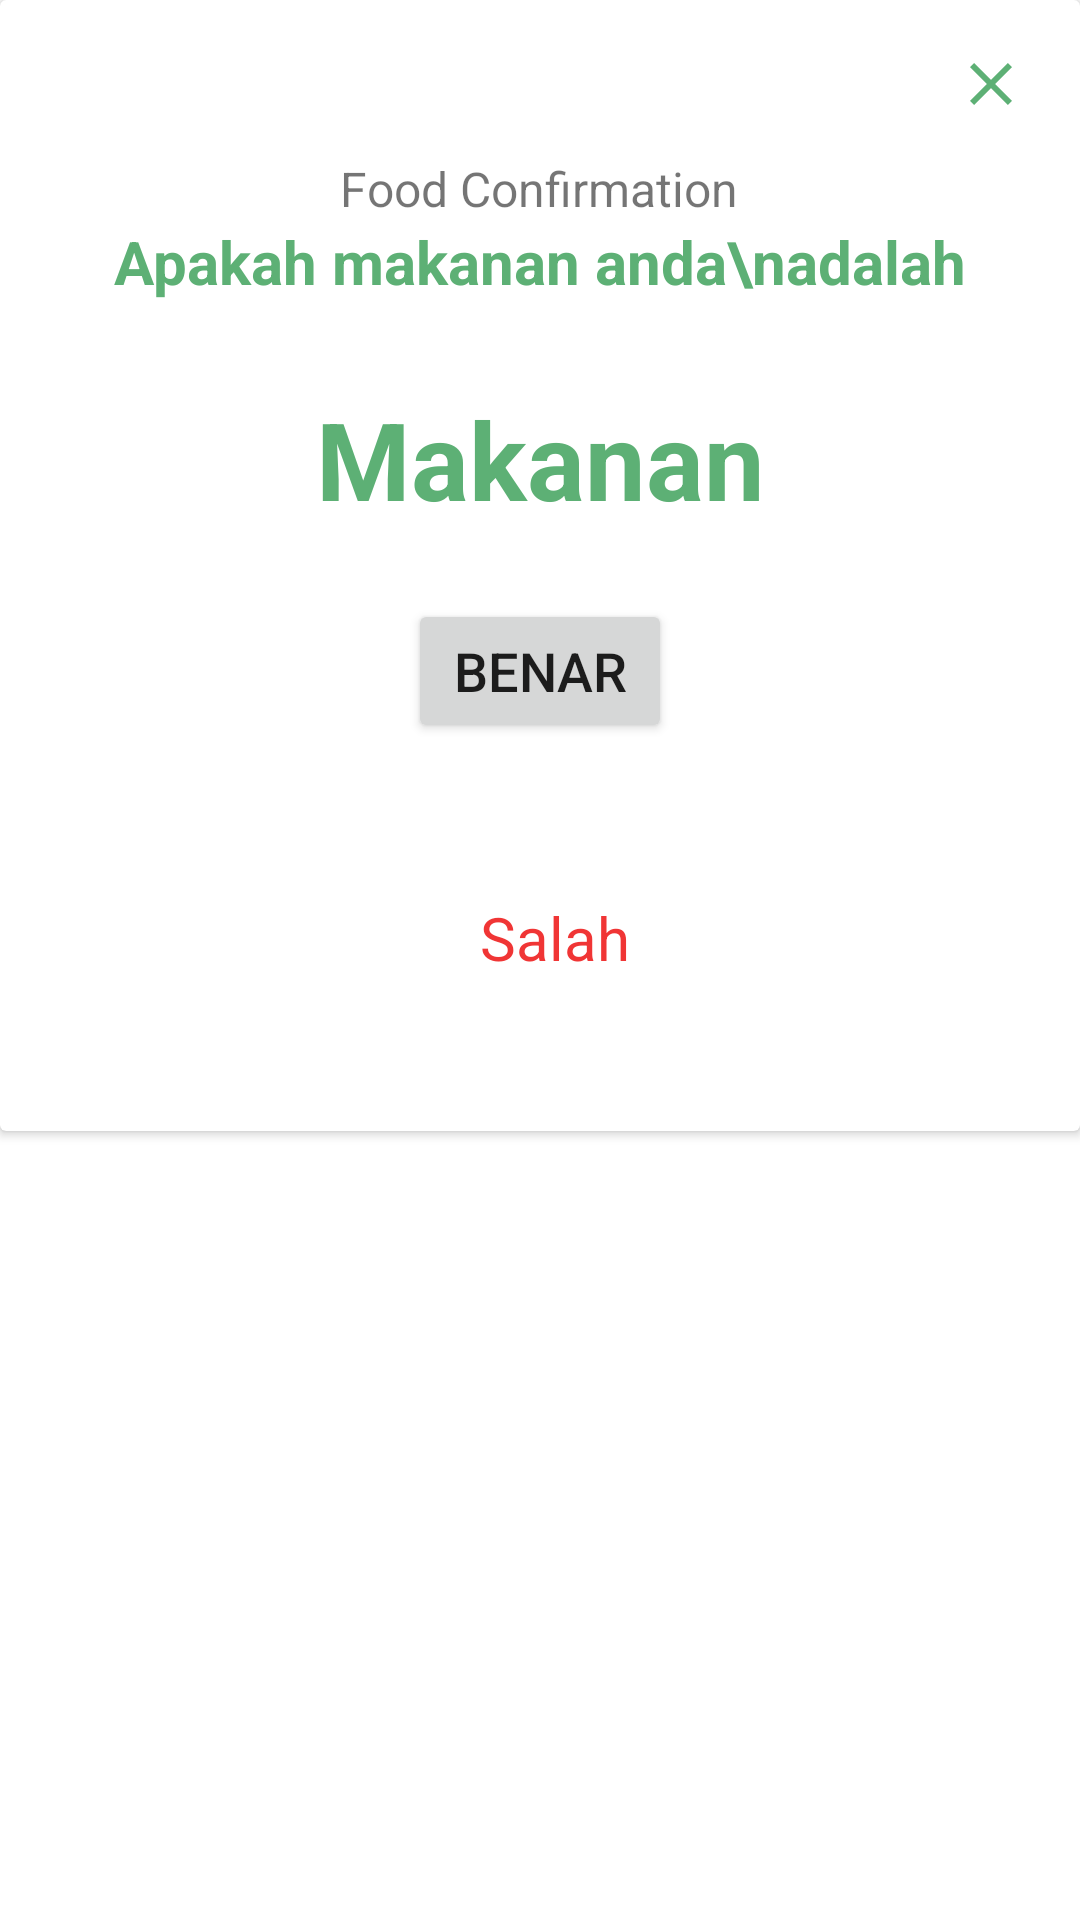

Point at icon controls on the screen. Image size 1080 × 1920, points as (x,y).
close: (991,84)
